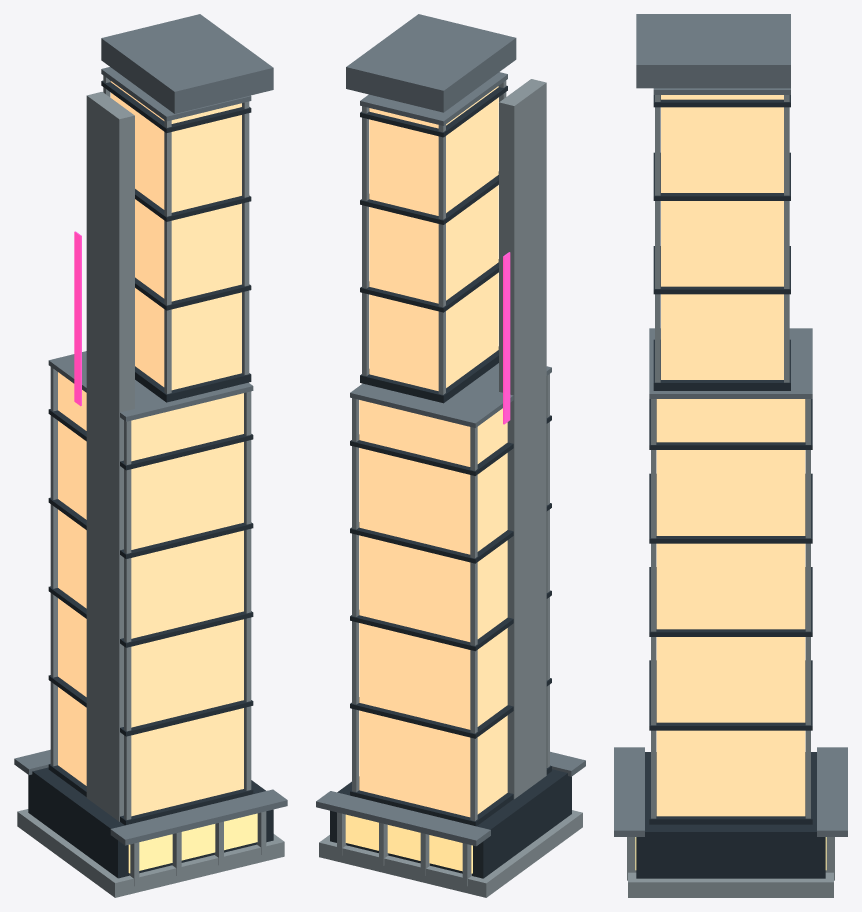
Rendered from vrx_city_hotel_b_LOD1.fbx.
3 renders of one model, left to right at view 1: azimuth 30°, elevation 25°; view 2: azimuth 150°, elevation 25°; view 3: azimuth 270°, elevation 25°, orthographic. The views are drawn at different scales.
Parts seen in each view (by area): view 1: vrx_city_hotel_b_LOD1; view 2: vrx_city_hotel_b_LOD1; view 3: vrx_city_hotel_b_LOD1.
Boxes of the visible parts, left/top/right/bottom form: vrx_city_hotel_b_LOD1: left=14, top=14, right=287, bottom=897; vrx_city_hotel_b_LOD1: left=316, top=14, right=585, bottom=897; vrx_city_hotel_b_LOD1: left=614, top=14, right=847, bottom=897.
Size of the model in its own units: 24 by 106 by 27.2.
